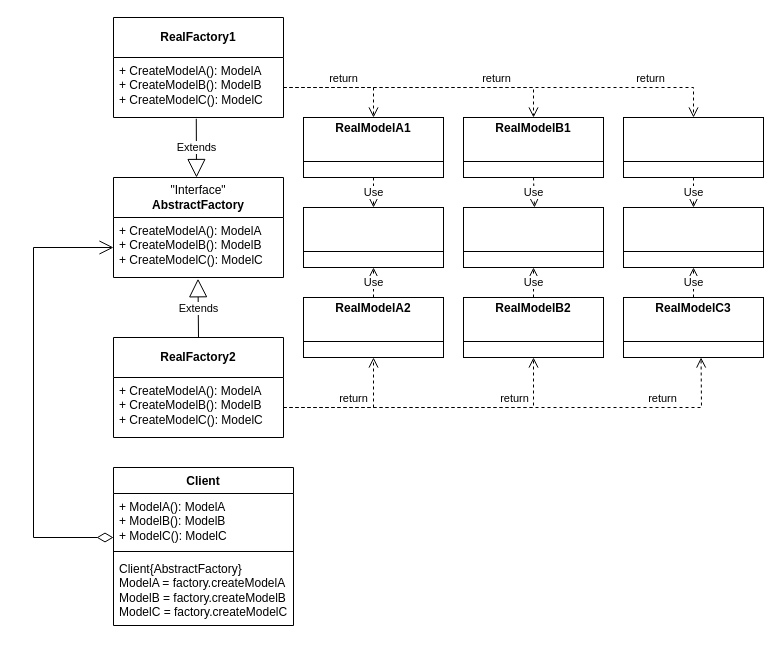
Image size: 781x646. Some labels were removed from this diagram. Here are the shapes that lost their labels. From the top down, the centre of each, then its label:
(x=693, y=147): RealModelC1
(x=373, y=237): "Interface" ModelA
(x=533, y=237): "Interface" ModelB
(x=693, y=237): "Interface" ModelC
